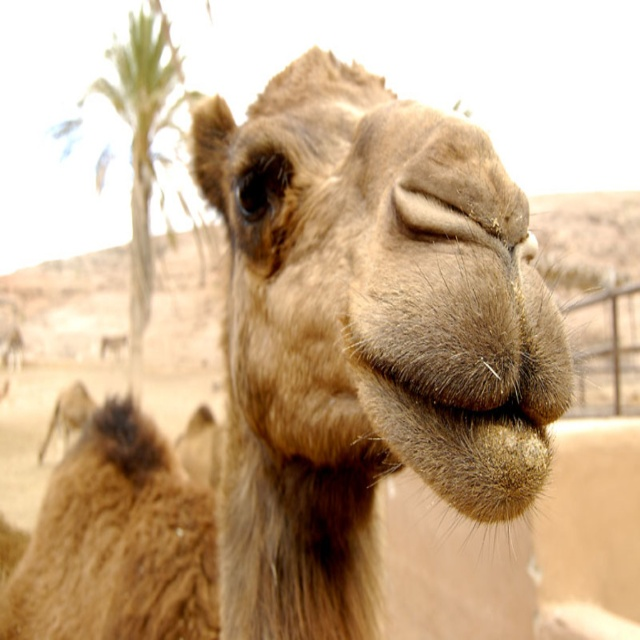Camel: (0, 46, 607, 640)
